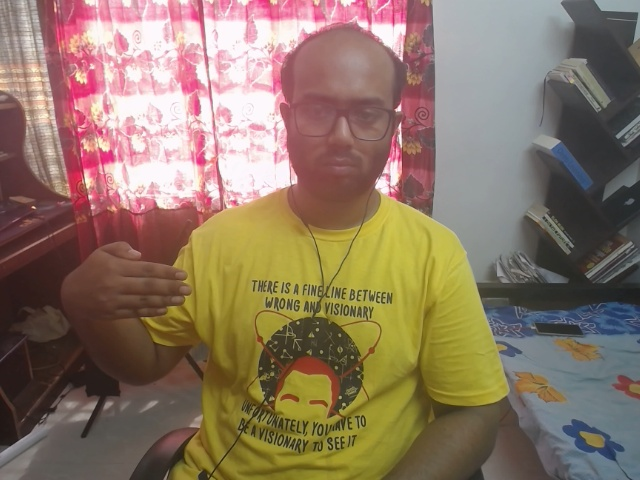north: (63, 205, 204, 360)
